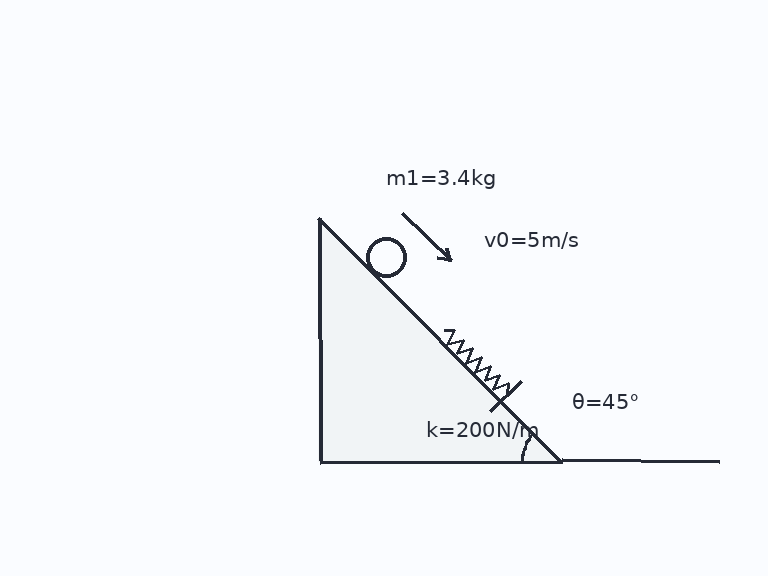ball: (364, 235, 408, 279)
ramp: (317, 216, 564, 463)
spring: (442, 328, 510, 396)
